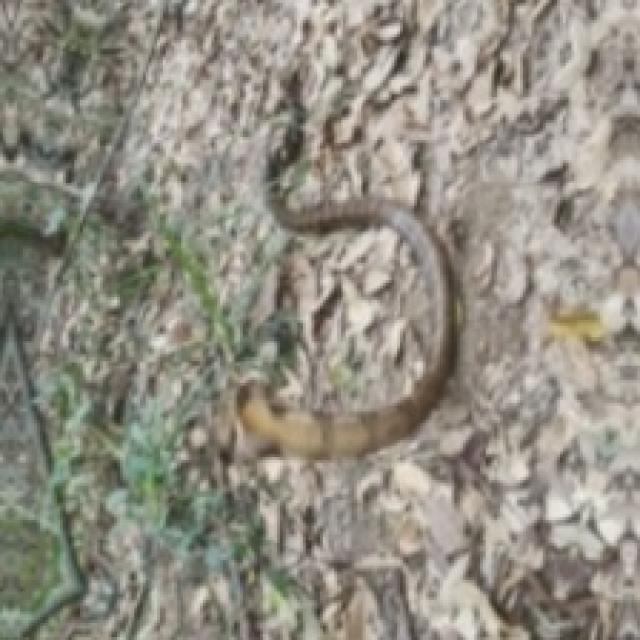king cobra: (234, 197, 454, 457)
